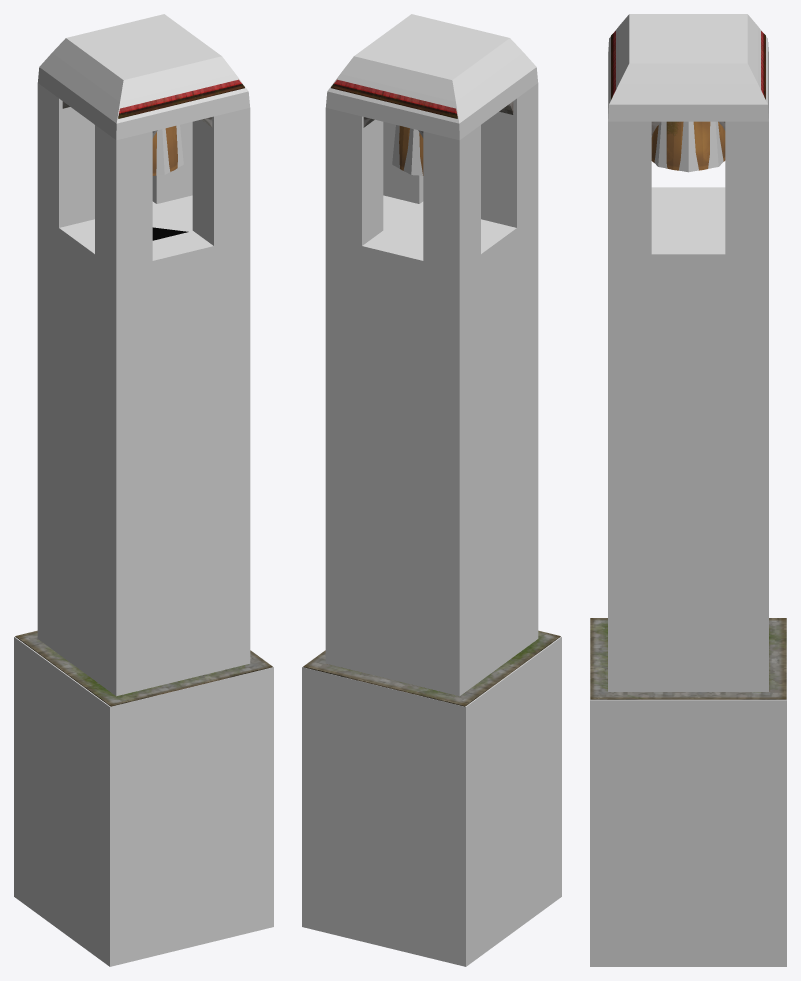
The model's file is Tower_2_Col.fbx.
3 renders of one model, left to right at view 1: azimuth 30°, elevation 25°; view 2: azimuth 150°, elevation 25°; view 3: azimuth 270°, elevation 25°, orthographic. The views are drawn at different scales.
Visible parts, largest first — view 1: BellTower_Col, BellTower; view 2: BellTower_Col, BellTower; view 3: BellTower_Col, BellTower.
Boxes of the visible parts, x1=… form: BellTower_Col: x1=14, y1=14, x2=273, y2=966; BellTower: x1=15, y1=79, x2=272, y2=706; BellTower_Col: x1=302, y1=14, x2=561, y2=966; BellTower: x1=303, y1=79, x2=560, y2=706; BellTower_Col: x1=590, y1=14, x2=786, y2=966; BellTower: x1=590, y1=31, x2=786, y2=699.
Size of the model in its own units: 132 by 666 by 134.
